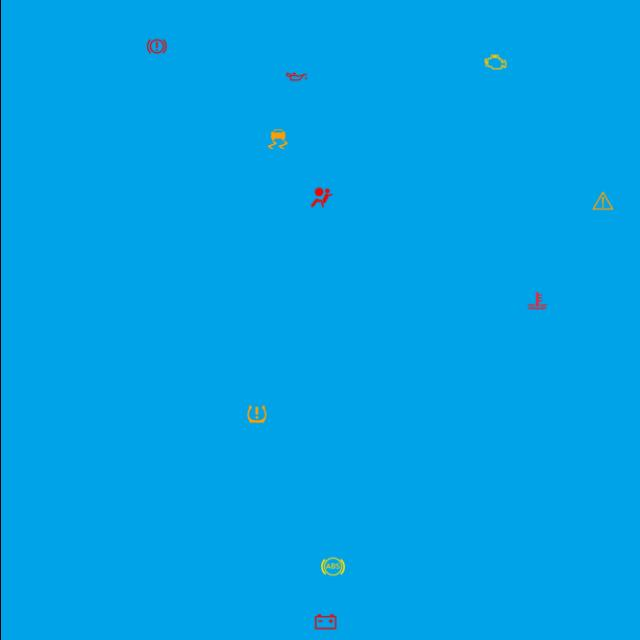Anti Lock Braking System: (319, 554, 345, 580)
Braking System Issue: (143, 34, 169, 60)
Charging System Issue: (312, 609, 338, 635)
Check Engine: (482, 49, 508, 75)
Electronic Stability Problem -ESP-: (264, 126, 290, 152)
Engine Overheating Warning Light: (524, 288, 550, 314)
Low Engine Oil Warning Light: (282, 64, 308, 90)
Low Tire Pressure Warning Light: (243, 402, 269, 428)
Master warning light: (589, 188, 615, 214)
SRS-Airbag: (307, 184, 333, 210)
